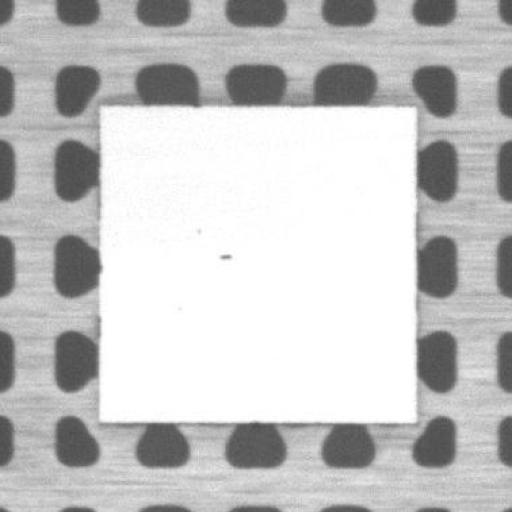DIE_INK: (214, 248, 234, 264), (191, 222, 206, 238)
